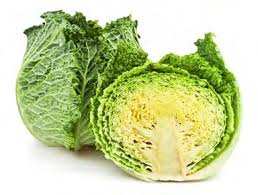cabbage: (99, 71, 228, 184)
